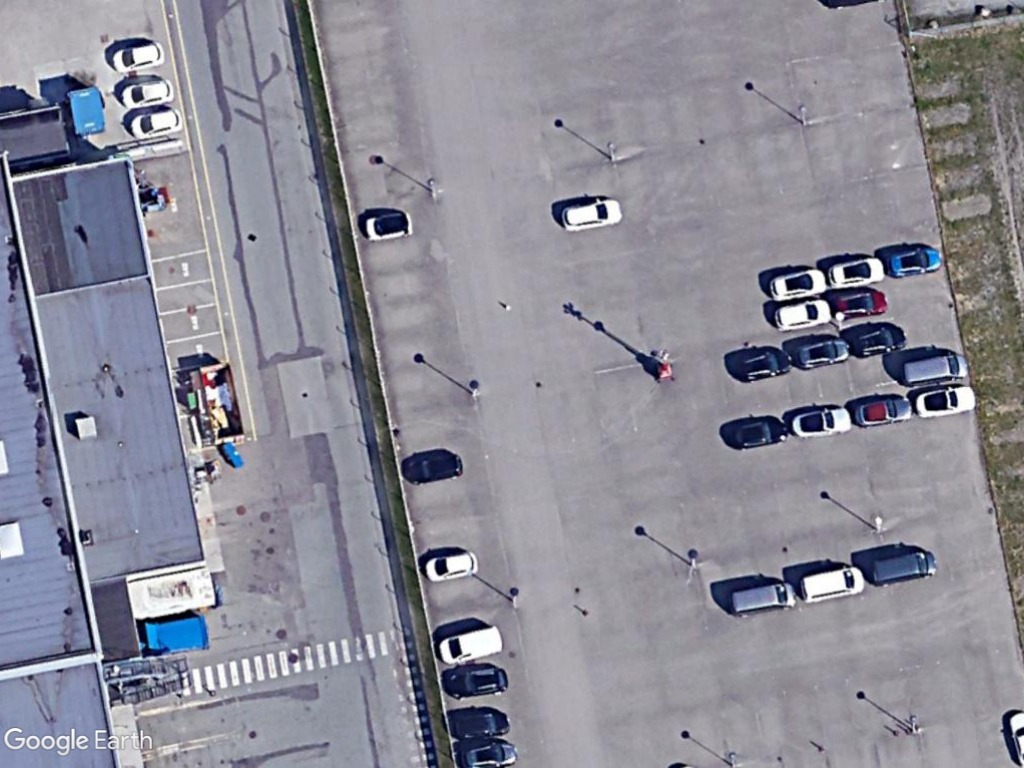car: (764, 261, 833, 304), (440, 663, 515, 702), (557, 194, 626, 236), (791, 330, 854, 375), (910, 382, 979, 422), (420, 544, 483, 587), (769, 293, 835, 334), (115, 73, 180, 114), (726, 411, 792, 451), (734, 343, 795, 385), (789, 400, 856, 438), (851, 390, 914, 430), (827, 287, 895, 323), (848, 322, 910, 361), (826, 253, 891, 290), (107, 38, 168, 77), (127, 104, 187, 142), (885, 242, 945, 279)
van: (796, 561, 868, 607), (866, 547, 942, 590), (897, 347, 973, 390), (437, 622, 507, 667), (726, 579, 800, 621)
